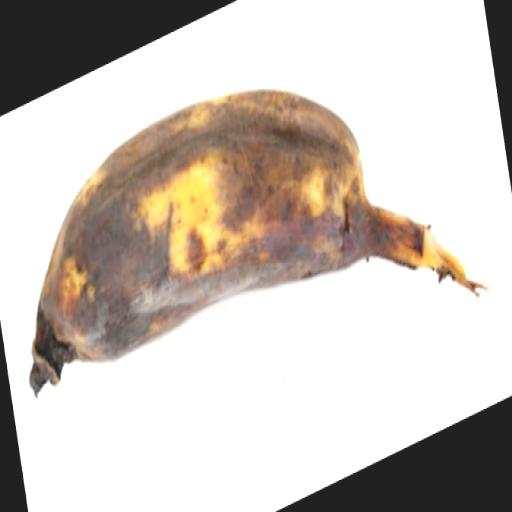banana-overripe: (4, 65, 506, 426)
